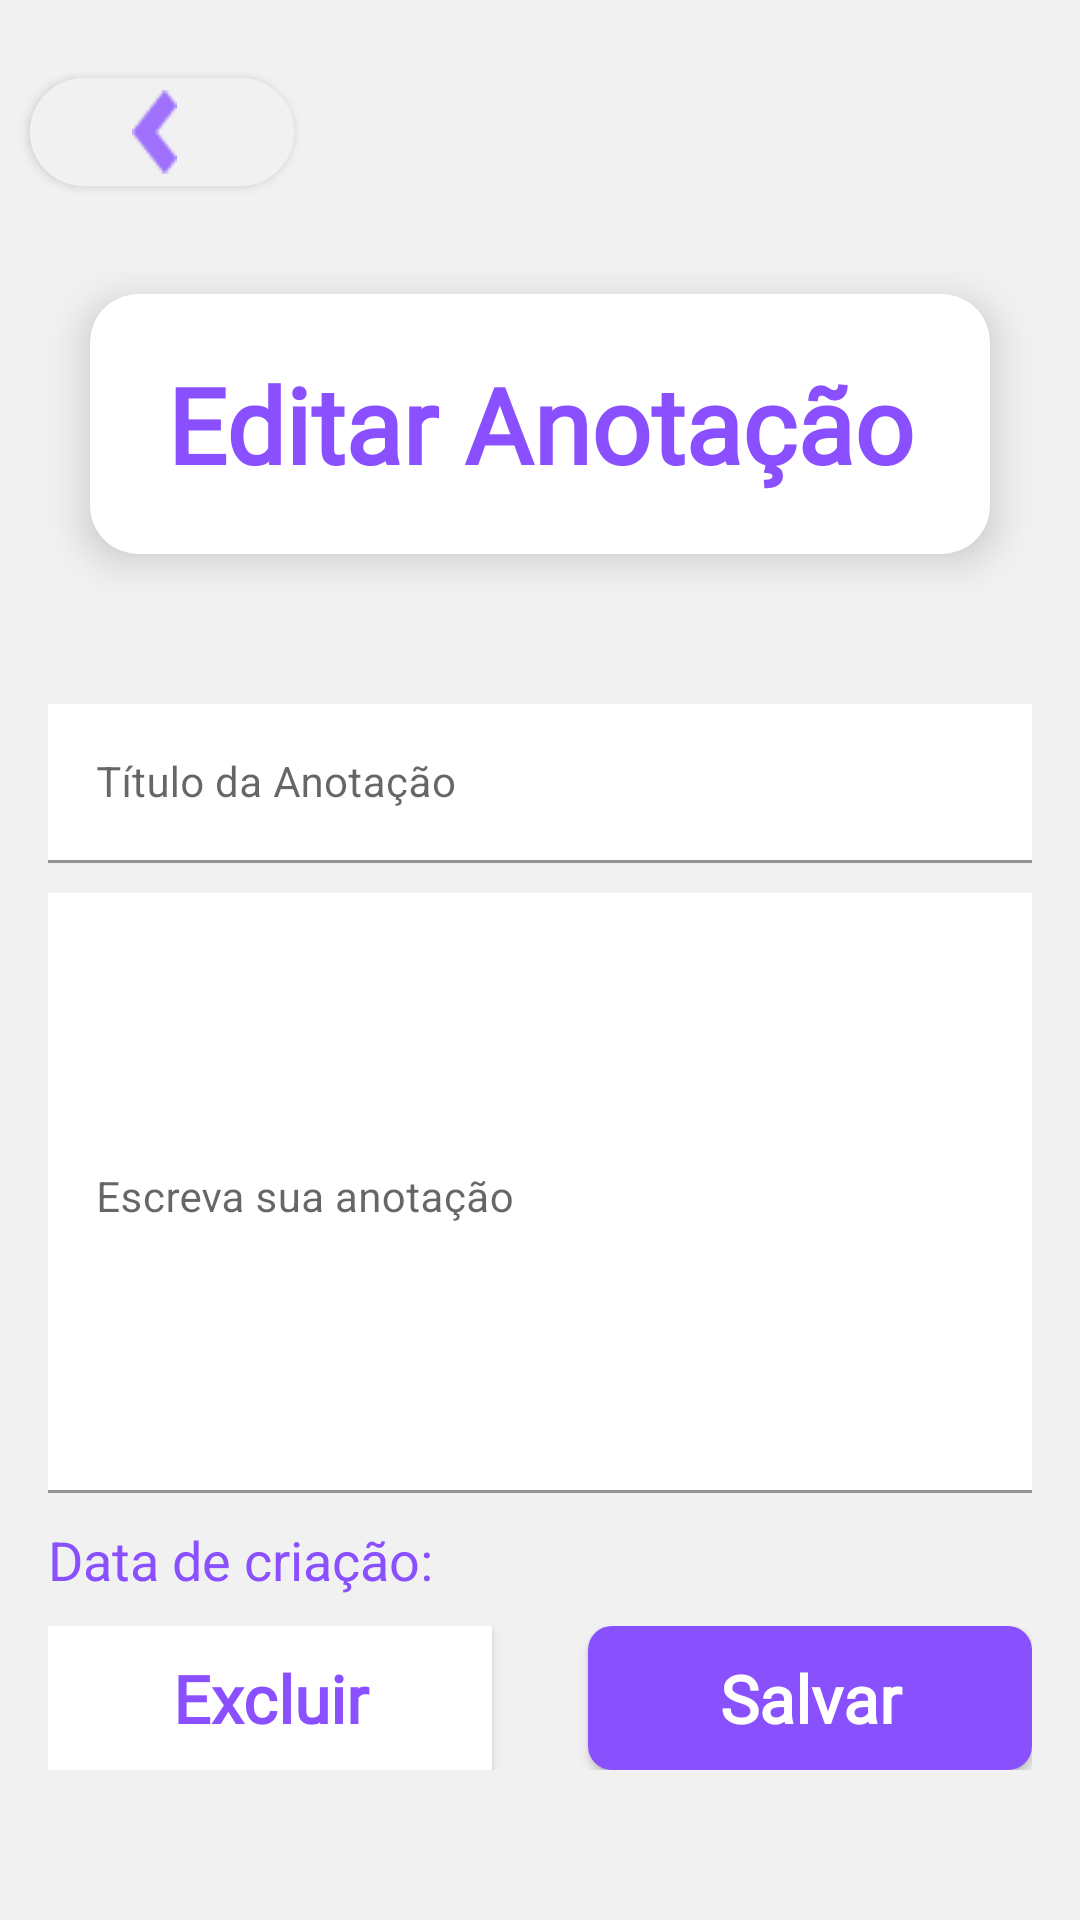

Locate icon controls on the screen. Image size 1080x1920, boxes as box=[x1, y1, x2, y2].
Voltar: box=[30, 90, 177, 174]
